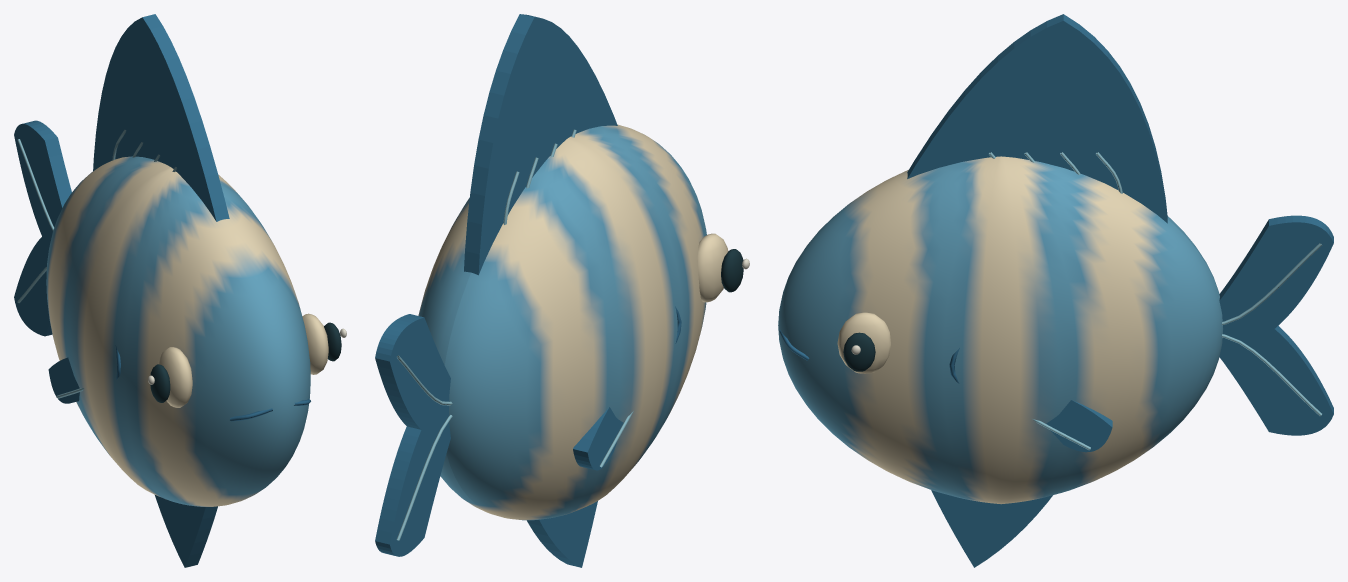
The model's file is ocean-fish-1.glb.
The picture shows the model from 3 angles, left to right: view 1: azimuth 30°, elevation 25°; view 2: azimuth 150°, elevation 25°; view 3: azimuth 270°, elevation 25°; orthographic projection. The views are drawn at different scales.
Parts seen in each view (by area): view 1: Body, Tail, PectoralFins; view 2: Body, Tail, PectoralFins; view 3: Body, Tail, PectoralFins.
Boxes of the visible parts, box(x1,y1,x2,y2) form: Body: box(46, 14, 346, 567); Tail: box(14, 120, 71, 336); PectoralFins: box(48, 357, 83, 403); Body: box(418, 14, 749, 567); Tail: box(375, 314, 452, 556); PectoralFins: box(573, 407, 633, 470); Body: box(778, 14, 1222, 567); Tail: box(1219, 215, 1333, 435); PectoralFins: box(1032, 400, 1112, 452).
Bounding box in the file's own units: 0.5281 × 1.33 × 1.22.
